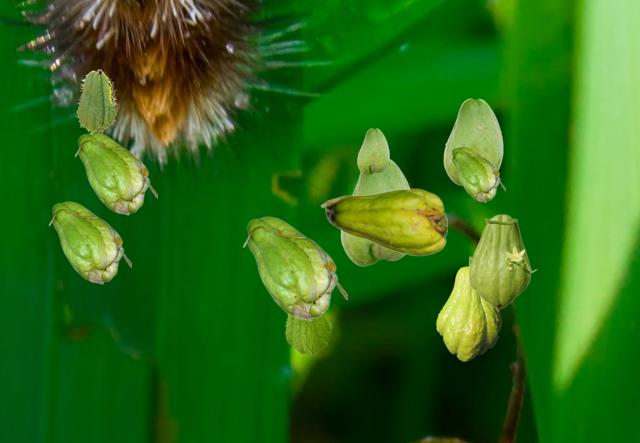sayote: (242, 216, 346, 320), (320, 188, 446, 255), (340, 158, 410, 265), (48, 201, 130, 283), (436, 256, 500, 360), (74, 133, 156, 214), (468, 214, 536, 309), (443, 98, 502, 184), (449, 146, 504, 201), (76, 69, 116, 133), (284, 314, 331, 354), (357, 128, 388, 174)
